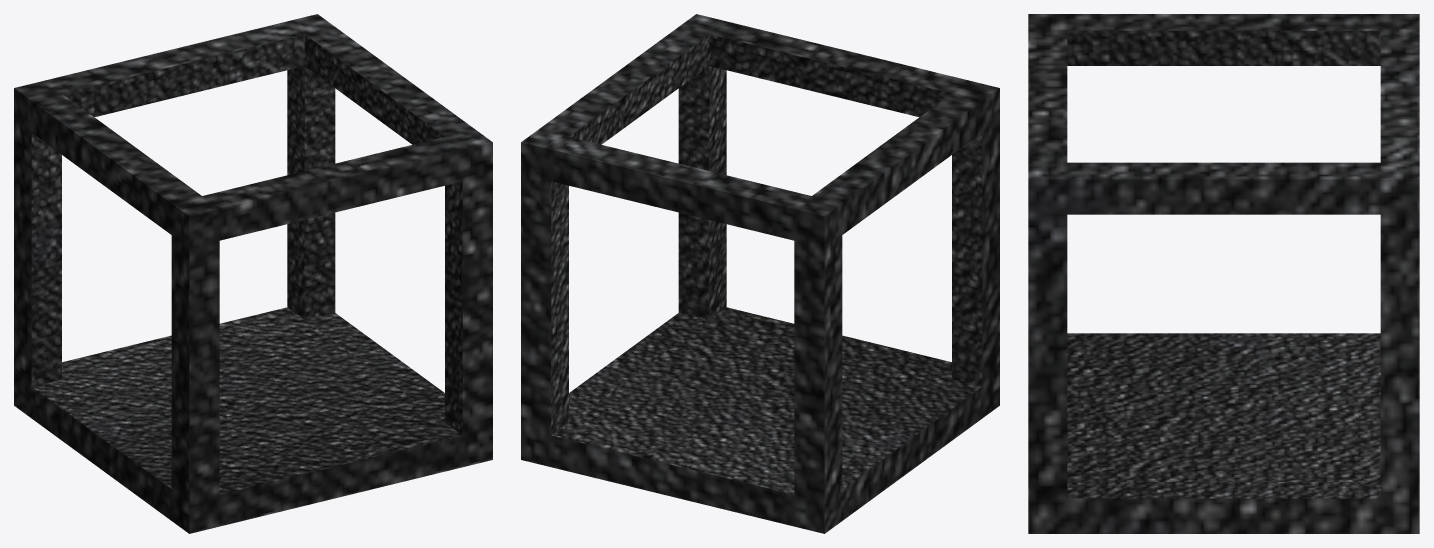
Rendered from pump.obj.
3 renders of one model, left to right at view 1: azimuth 30°, elevation 25°; view 2: azimuth 150°, elevation 25°; view 3: azimuth 270°, elevation 25°, orthographic. The views are drawn at different scales.
Visible parts, largest first — view 1: Pump_Cube; view 2: Pump_Cube; view 3: Pump_Cube.
Part boxes in pixels (left/top/right/bottom): Pump_Cube: left=14, top=14, right=492, bottom=533; Pump_Cube: left=521, top=14, right=999, bottom=533; Pump_Cube: left=1028, top=14, right=1419, bottom=533.
Size of the model in its own units: 1 by 1 by 1.
